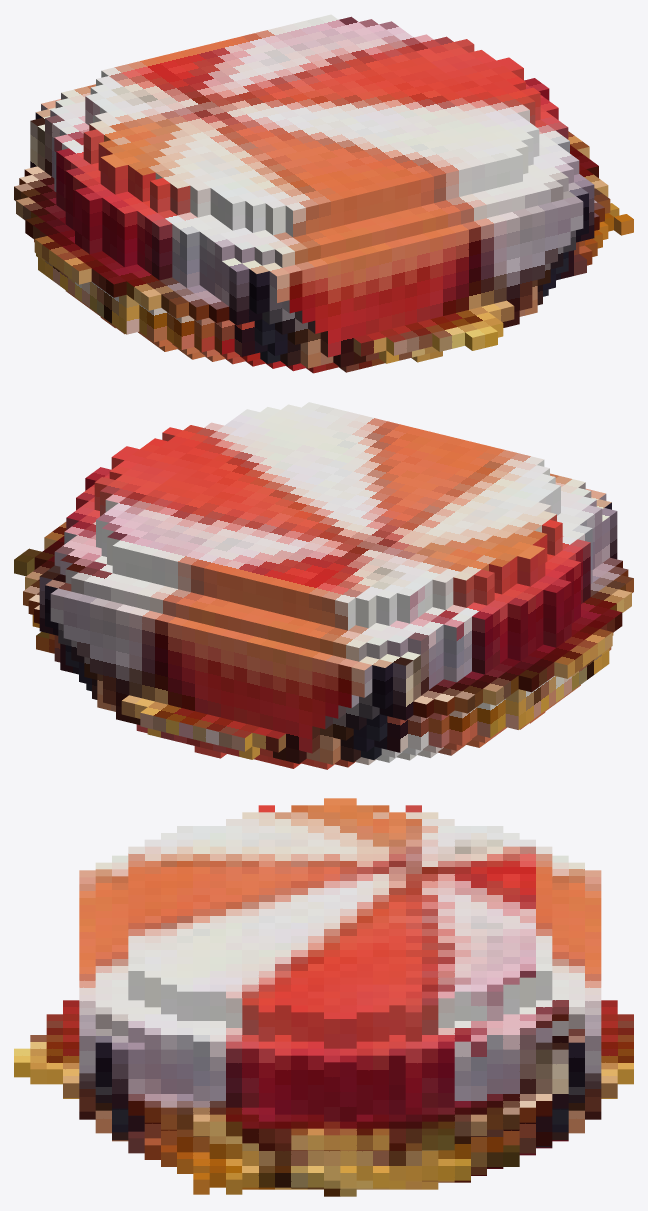
File: red-umbrella.glb
The picture shows the model from 3 angles, top to bottom: view 1: azimuth 30°, elevation 25°; view 2: azimuth 150°, elevation 25°; view 3: azimuth 270°, elevation 25°; orthographic projection. The views are drawn at different scales.
Visible parts, largest first — view 1: red-umbrella; view 2: red-umbrella; view 3: red-umbrella.
Boxes of the visible parts, box(x1,y1,x2,y2) form: red-umbrella: box(14, 14, 633, 373); red-umbrella: box(14, 402, 633, 769); red-umbrella: box(14, 798, 633, 1196).
Size of the model in its own units: 1.33 by 0.4 by 1.27.
Materials: 1 (1 with a texture image).
